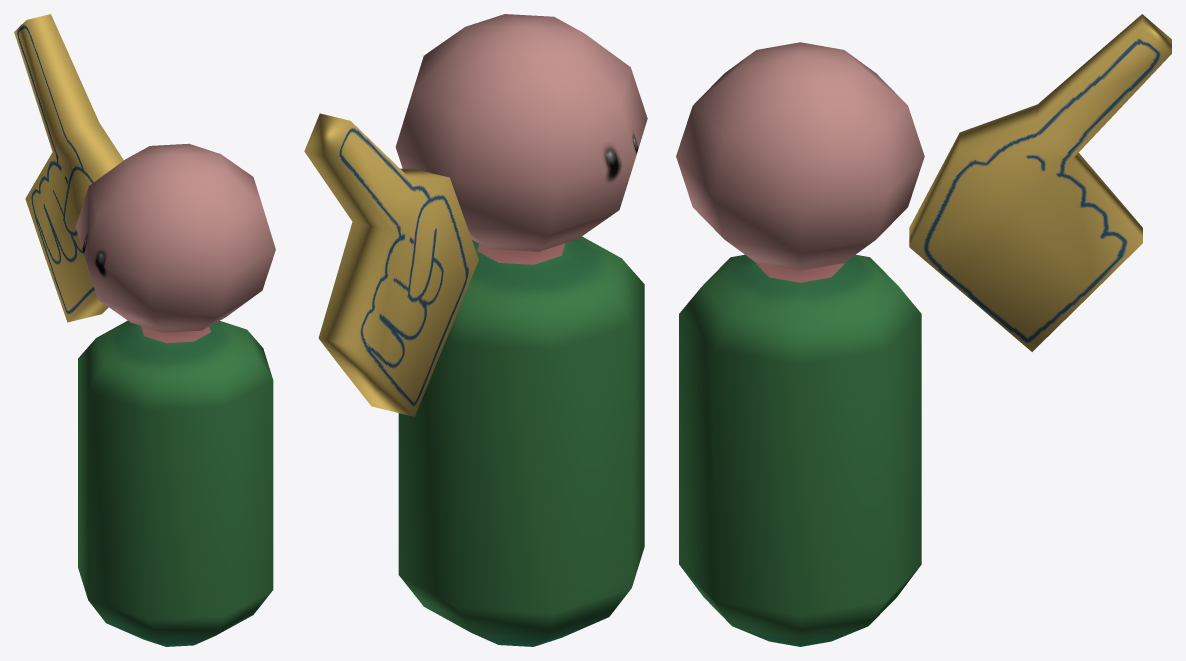
The model's file is boneco03.dae.
The picture shows the model from 3 angles, left to right: view 1: azimuth 30°, elevation 25°; view 2: azimuth 150°, elevation 25°; view 3: azimuth 270°, elevation 25°; orthographic projection. The views are drawn at different scales.
Parts seen in each view (by area): view 1: pCylinder8; view 2: pCylinder8; view 3: pCylinder8.
Boxes of the visible parts, <box> form: pCylinder8: <box>14,14,275,646</box>; pCylinder8: <box>304,14,647,646</box>; pCylinder8: <box>676,14,1171,646</box>.
Size of the model in its own units: 1.55 by 4.21 by 3.1.
